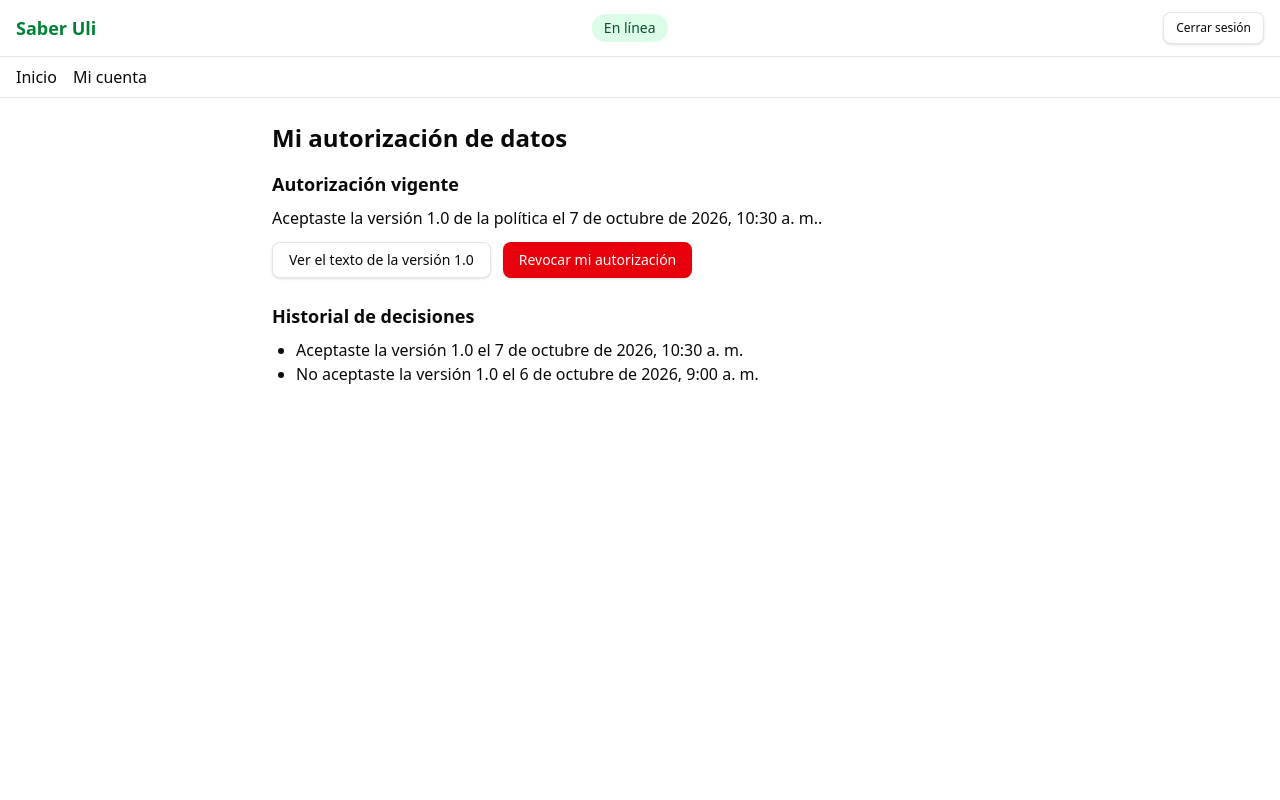
Test: mi autorización de datos › permite ver el texto de la versión aceptada
Click the button "Ver el texto de la versión 1.0": [381, 260] box [272,242,491,278]
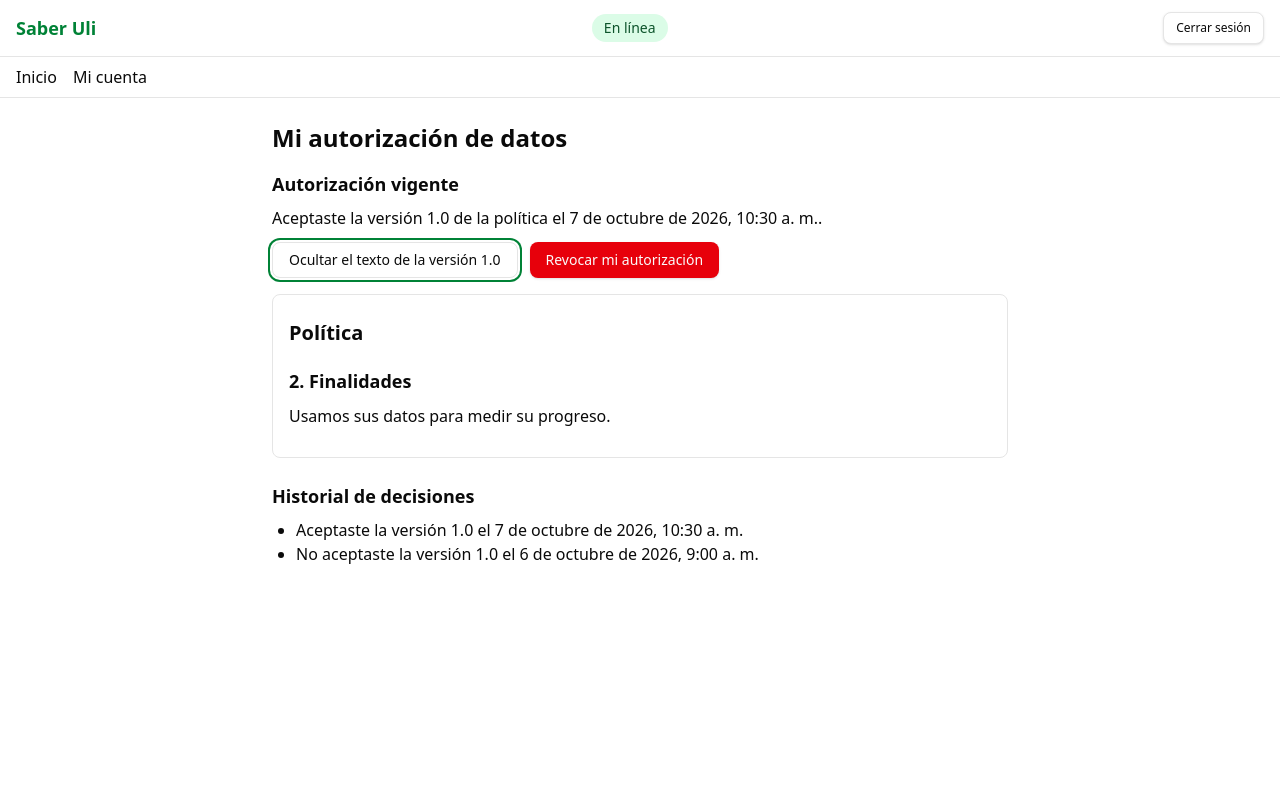
Expected: the heading "2. Finalidades" is shown, [289,369,411,393]
